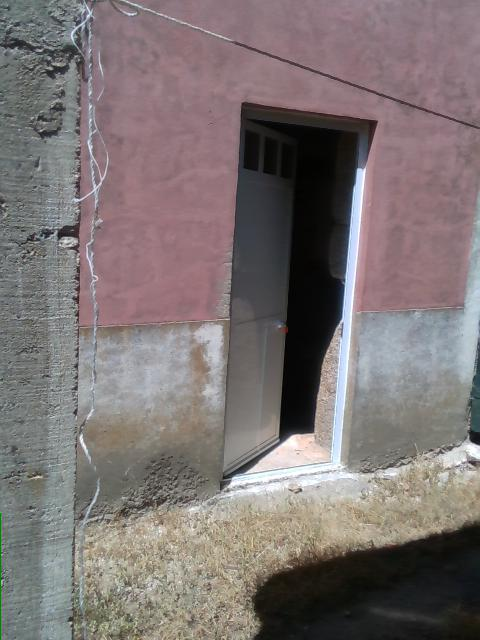semi_door: (220, 102, 374, 480)
